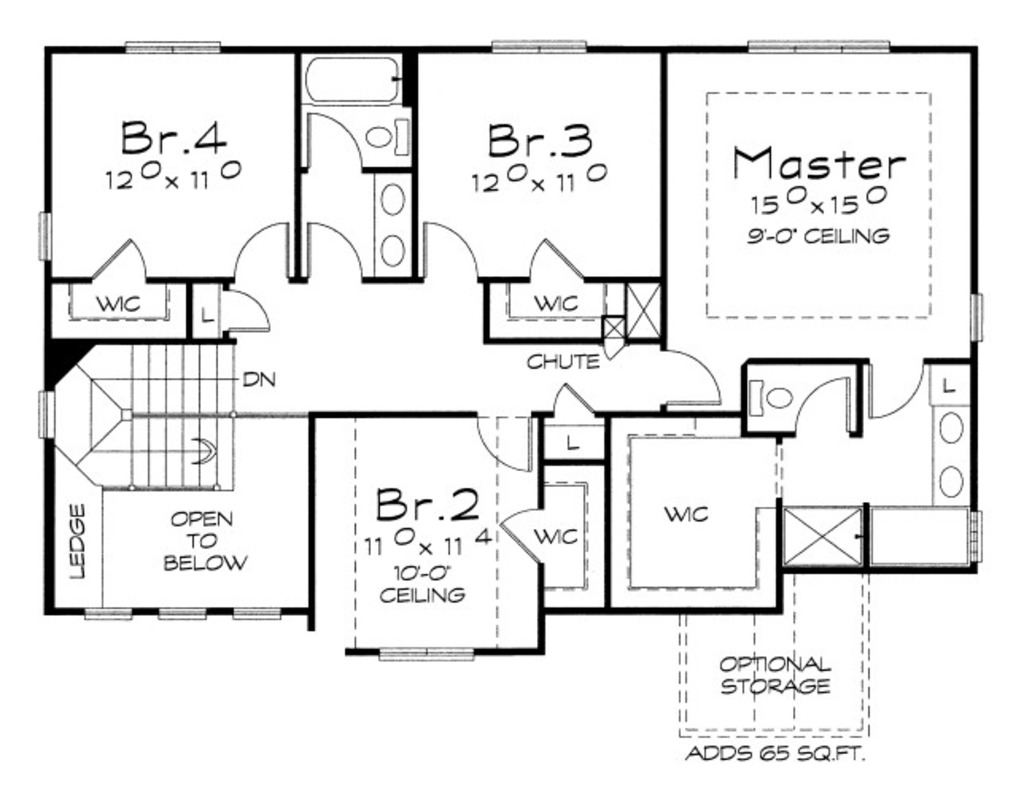door: (656, 346, 727, 410), (298, 110, 367, 173), (473, 410, 536, 475), (297, 220, 361, 281), (219, 275, 278, 338), (415, 219, 480, 276), (232, 220, 288, 285), (865, 359, 924, 418), (792, 377, 849, 437), (496, 500, 548, 562), (526, 238, 589, 287), (93, 235, 150, 288), (551, 380, 597, 419)
large_sink: (742, 373, 796, 419), (369, 116, 410, 159)
small_sink: (374, 169, 417, 283), (930, 403, 972, 510)
stairs: (56, 333, 255, 500)
tub: (292, 50, 414, 107)
window: (743, 37, 899, 54), (124, 38, 223, 58), (378, 643, 480, 662), (492, 39, 595, 55), (154, 603, 224, 626), (965, 506, 988, 567), (964, 287, 989, 343), (77, 603, 139, 623), (231, 605, 287, 620)
